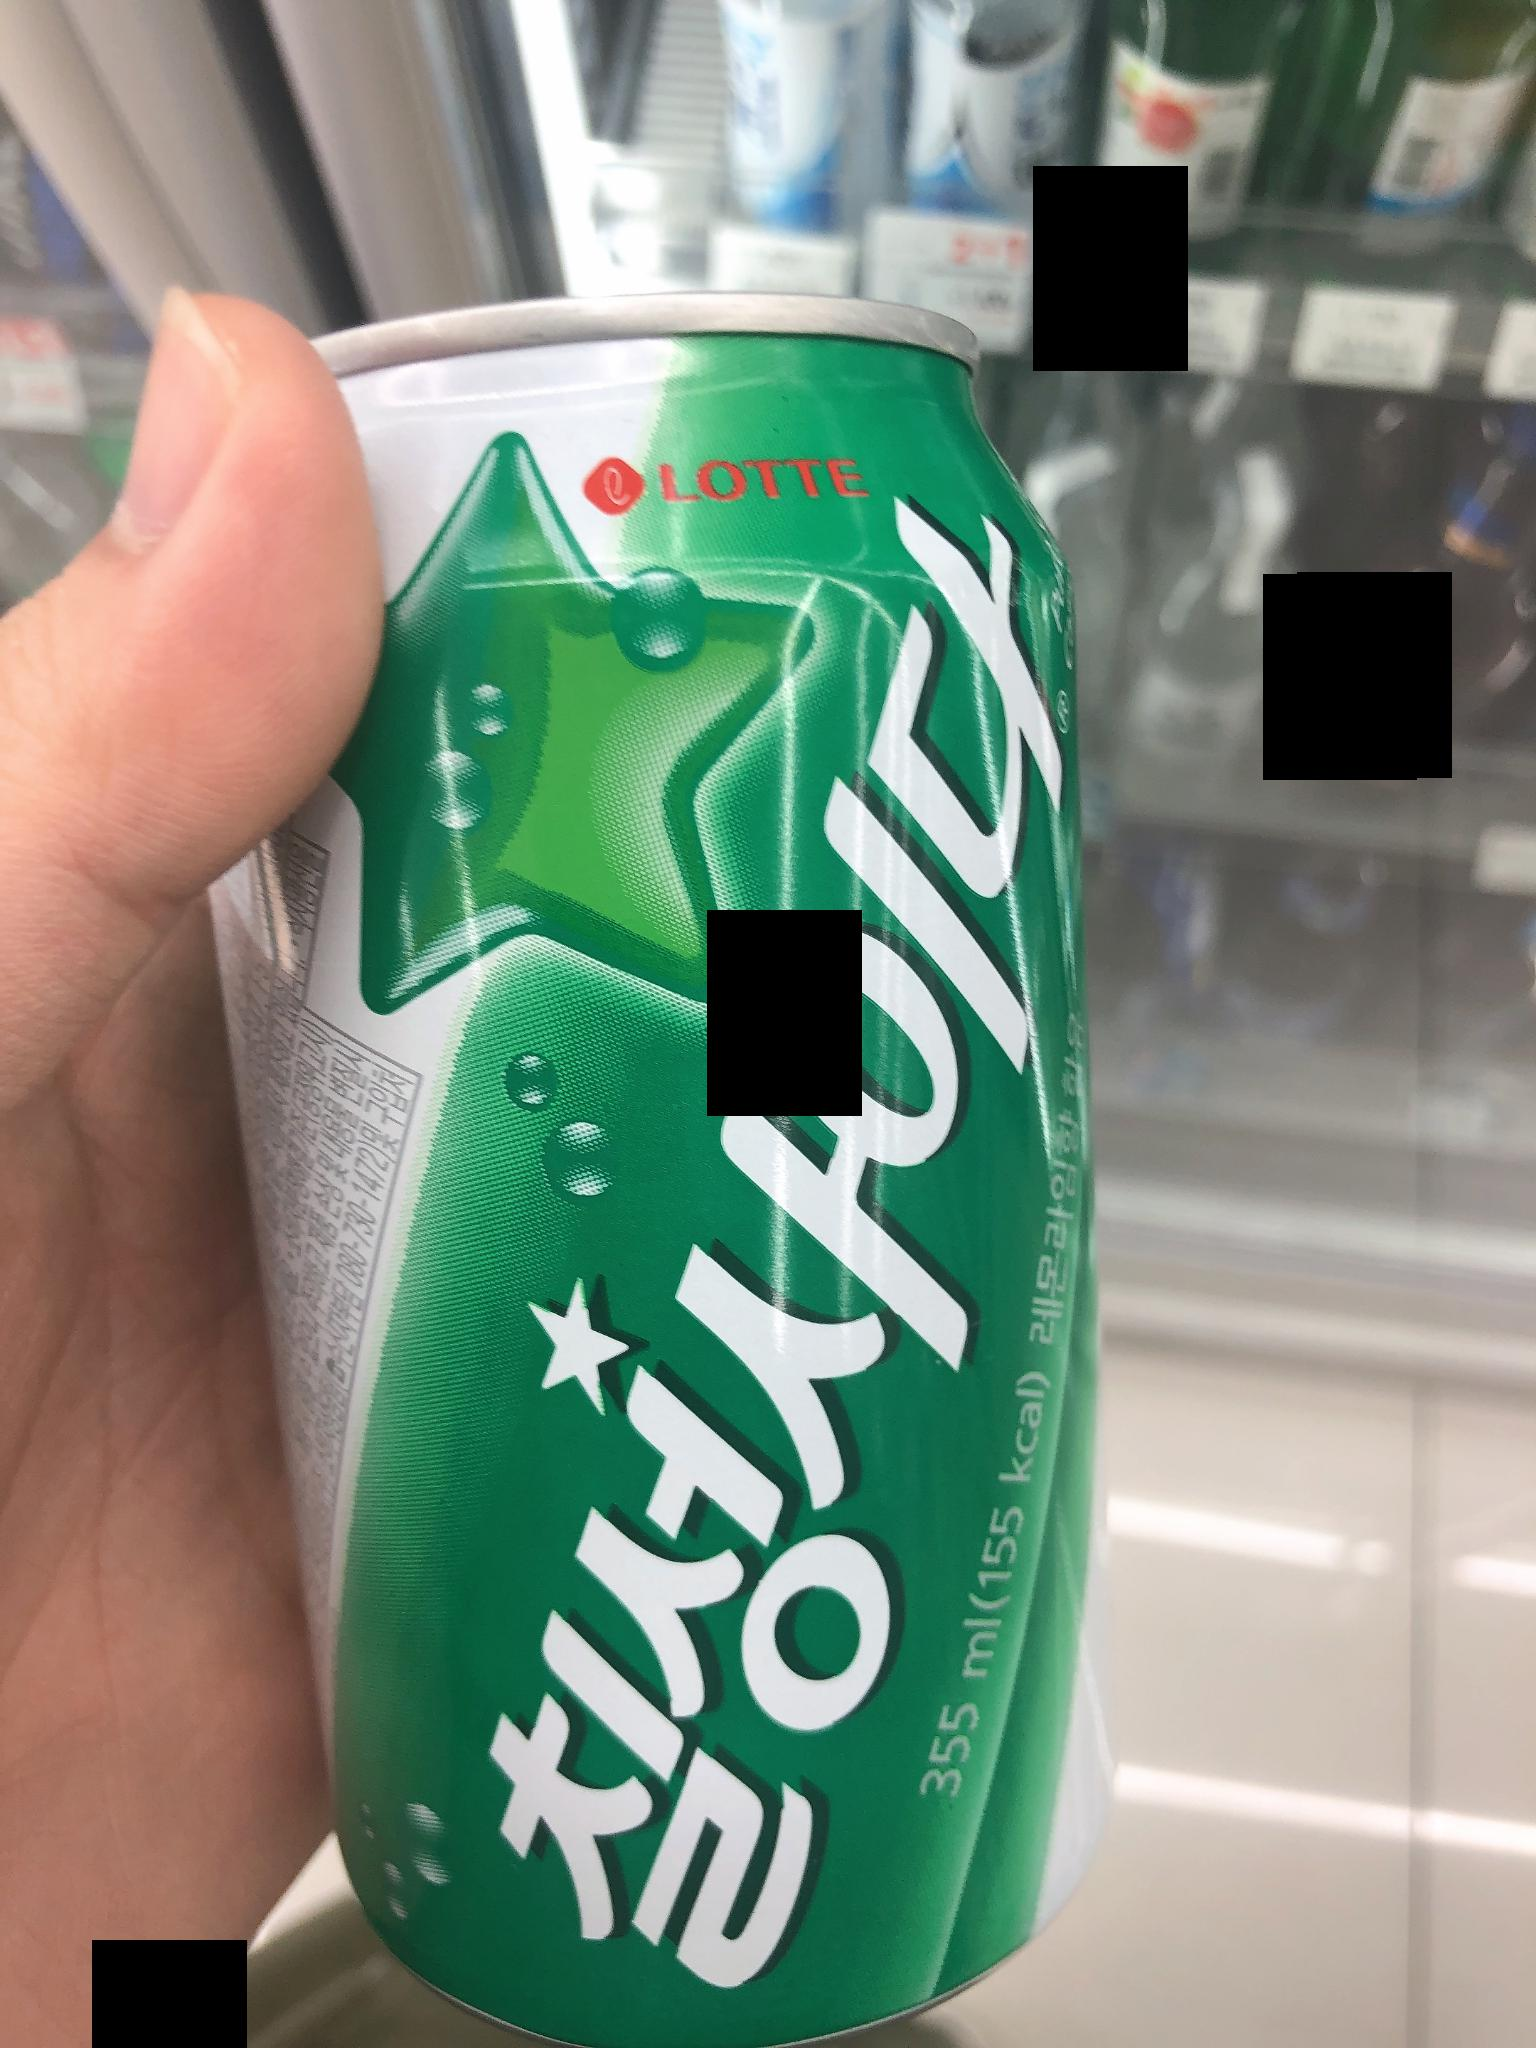chilsungcider: (131, 290, 1149, 2046)
